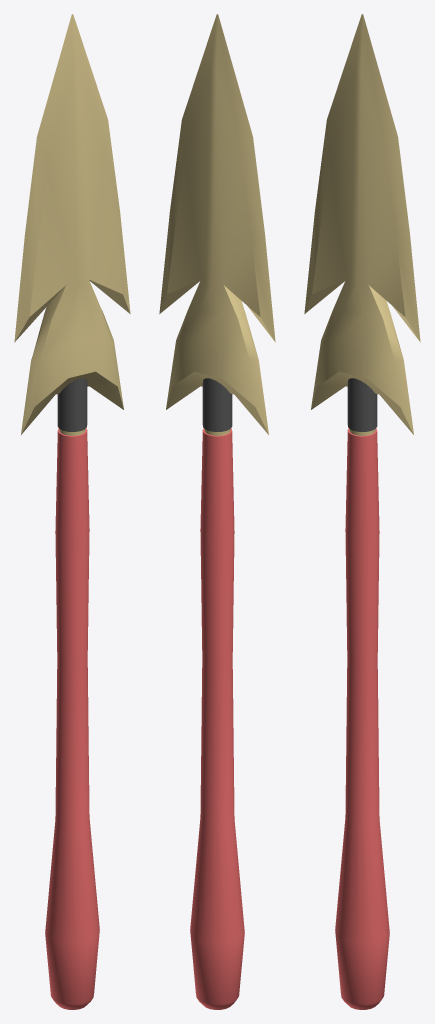
File: Protag_Main_Melee.glb
The picture shows the model from 3 angles, left to right: view 1: azimuth 30°, elevation 25°; view 2: azimuth 150°, elevation 25°; view 3: azimuth 330°, elevation 25°; orthographic projection.
Parts seen in each view (by area): view 1: Melee; view 2: Melee; view 3: Melee.
Boxes of the visible parts, x1=… form: Melee: x1=14, y1=14, x2=130, y2=1009; Melee: x1=159, y1=14, x2=275, y2=1009; Melee: x1=304, y1=14, x2=420, y2=1009.
Bounding box in the file's own units: 0.4247 × 3.46 × 0.1747.
